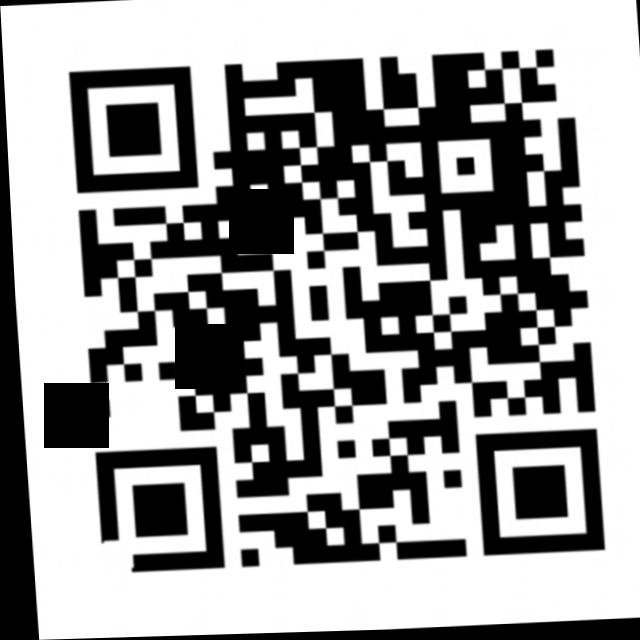QR_CODE: (41, 31, 624, 594)
